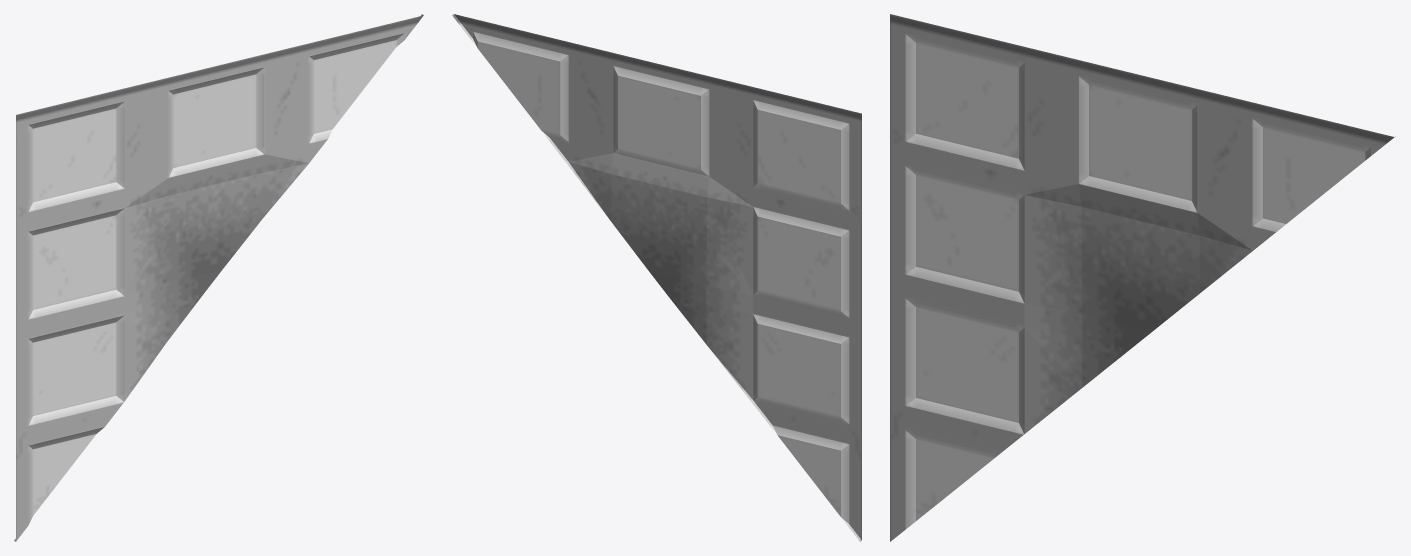
The model's file is flight2_2_slice45.fbx.
3 views of the same model, side by side, from view 1: azimuth 30°, elevation 25°; view 2: azimuth 150°, elevation 25°; view 3: azimuth 330°, elevation 25° (orthographic). The views are drawn at different scales.
Parts seen in each view (by area): view 1: flight2_2_slice45_mesh; view 2: flight2_2_slice45_mesh; view 3: flight2_2_slice45_mesh.
Part boxes in pixels (x1,y1,x2,y2): flight2_2_slice45_mesh: (14,14,423,541); flight2_2_slice45_mesh: (452,14,861,541); flight2_2_slice45_mesh: (890,14,1395,541).
Size of the model in its own units: 256 by 256 by 3.
